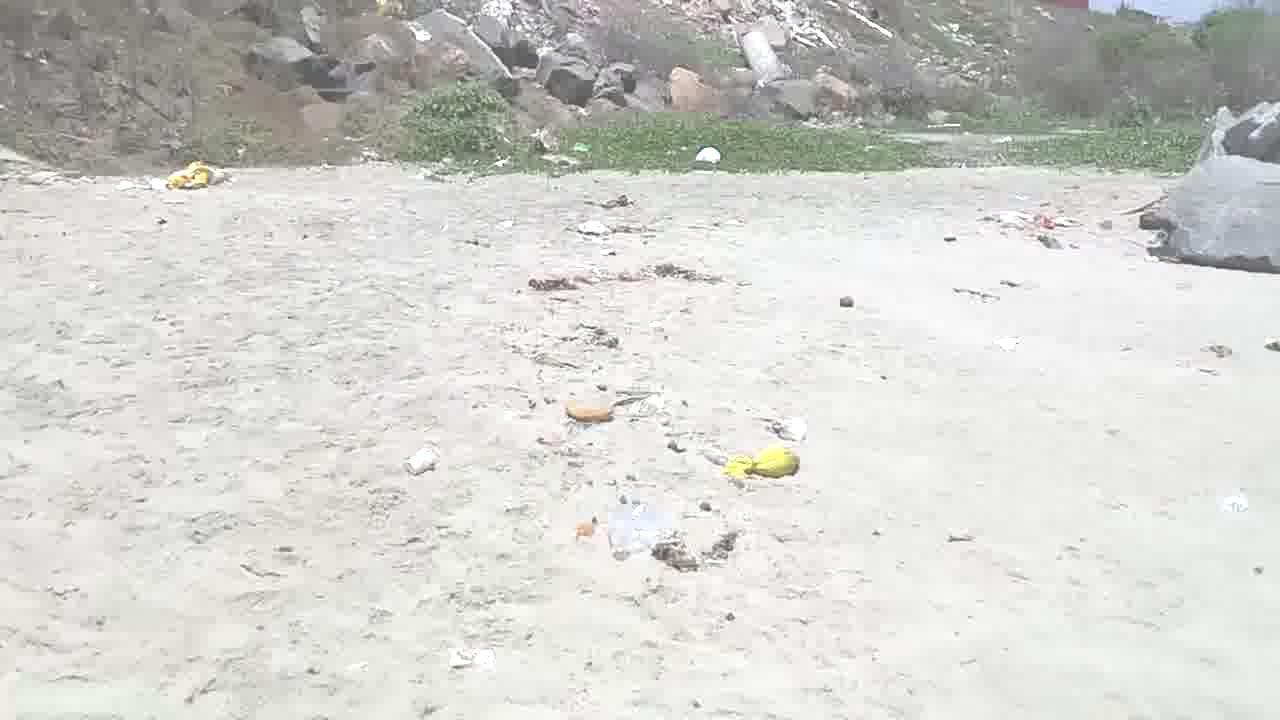obj: (394, 78, 1194, 174), (982, 192, 1096, 256), (650, 524, 754, 582), (524, 264, 726, 292), (716, 444, 805, 486), (148, 160, 240, 195), (604, 508, 666, 554), (949, 276, 1026, 310), (558, 390, 622, 426), (395, 445, 443, 486), (448, 645, 502, 680), (570, 219, 660, 240), (599, 188, 636, 212), (994, 332, 1022, 354), (836, 292, 857, 312), (696, 147, 721, 163)
sand/background: (0, 0, 1279, 276)
